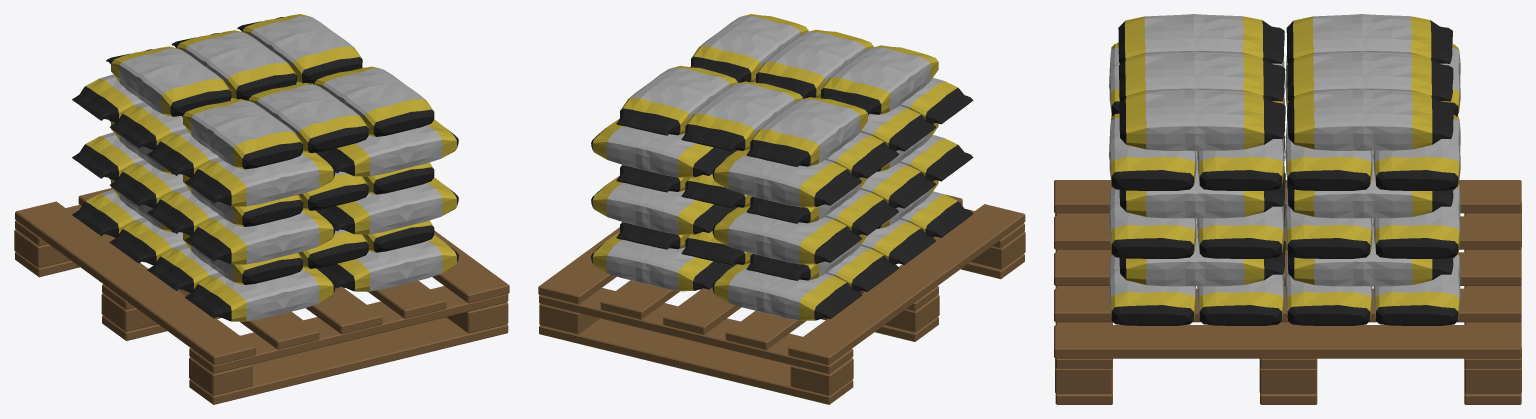
3 renders of one model, left to right at view 1: azimuth 30°, elevation 25°; view 2: azimuth 150°, elevation 25°; view 3: azimuth 270°, elevation 25°, orthographic. The views are drawn at different scales.
Parts seen in each view (by area): view 1: Palette + Sand; view 2: Palette + Sand; view 3: Palette + Sand.
Boxes of the visible parts, bbox=[...] form: Palette + Sand: bbox=[14, 14, 509, 404]; Palette + Sand: bbox=[538, 14, 1025, 404]; Palette + Sand: bbox=[1054, 14, 1521, 404].
Size of the model in its own units: 6.81 by 4.88 by 7.93.
